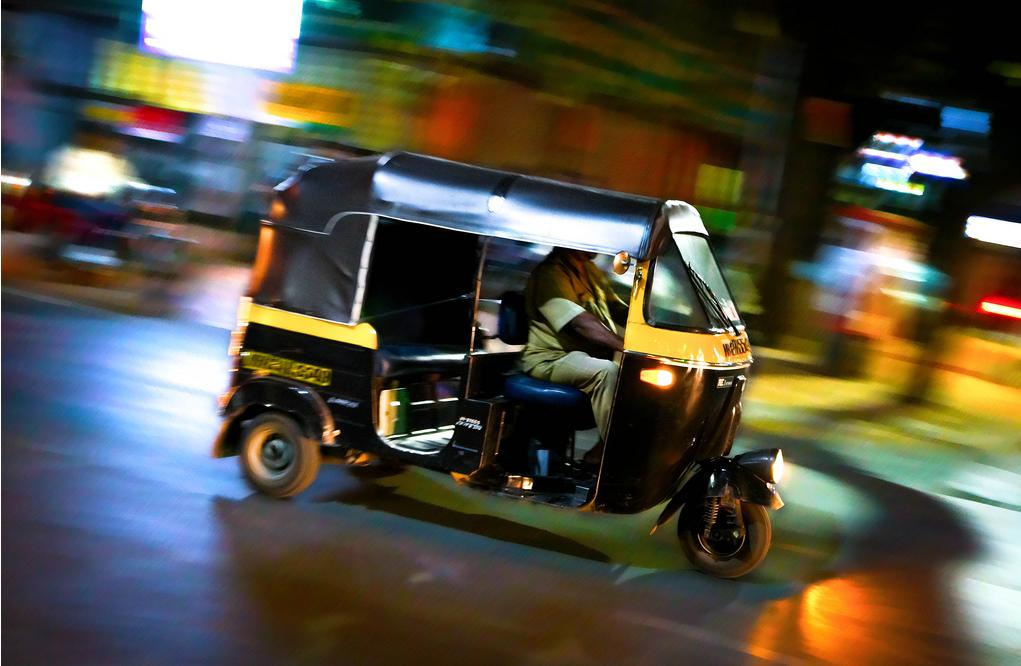rickshaw: (215, 133, 791, 597)
